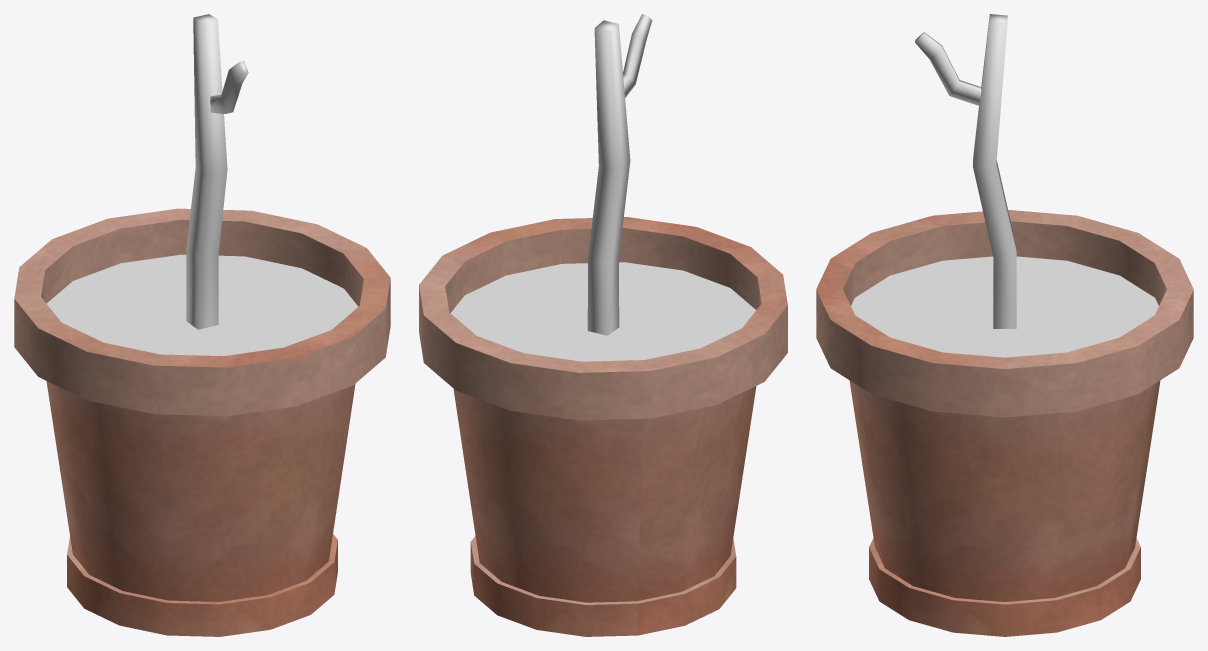
The model's file is pot.fbx.
3 views of the same model, side by side, from view 1: azimuth 30°, elevation 25°; view 2: azimuth 150°, elevation 25°; view 3: azimuth 270°, elevation 25° (orthographic). The views are drawn at different scales.
Visible parts, largest first — view 1: Pot; view 2: Pot; view 3: Pot.
Part boxes in pixels (x1,y1,x2,y2): Pot: (14, 14, 390, 636); Pot: (419, 14, 787, 636); Pot: (816, 14, 1193, 636).
Bounding box in the file's own units: 2.71 × 4.45 × 2.71.
